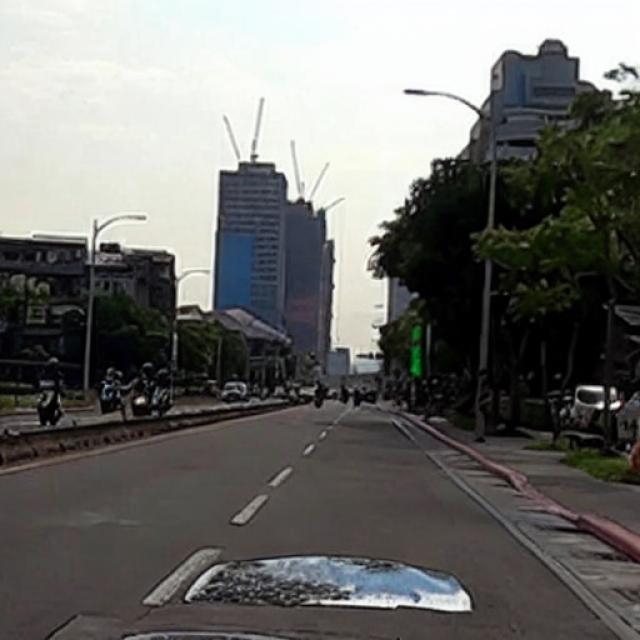puddle: (190, 556, 475, 615)
